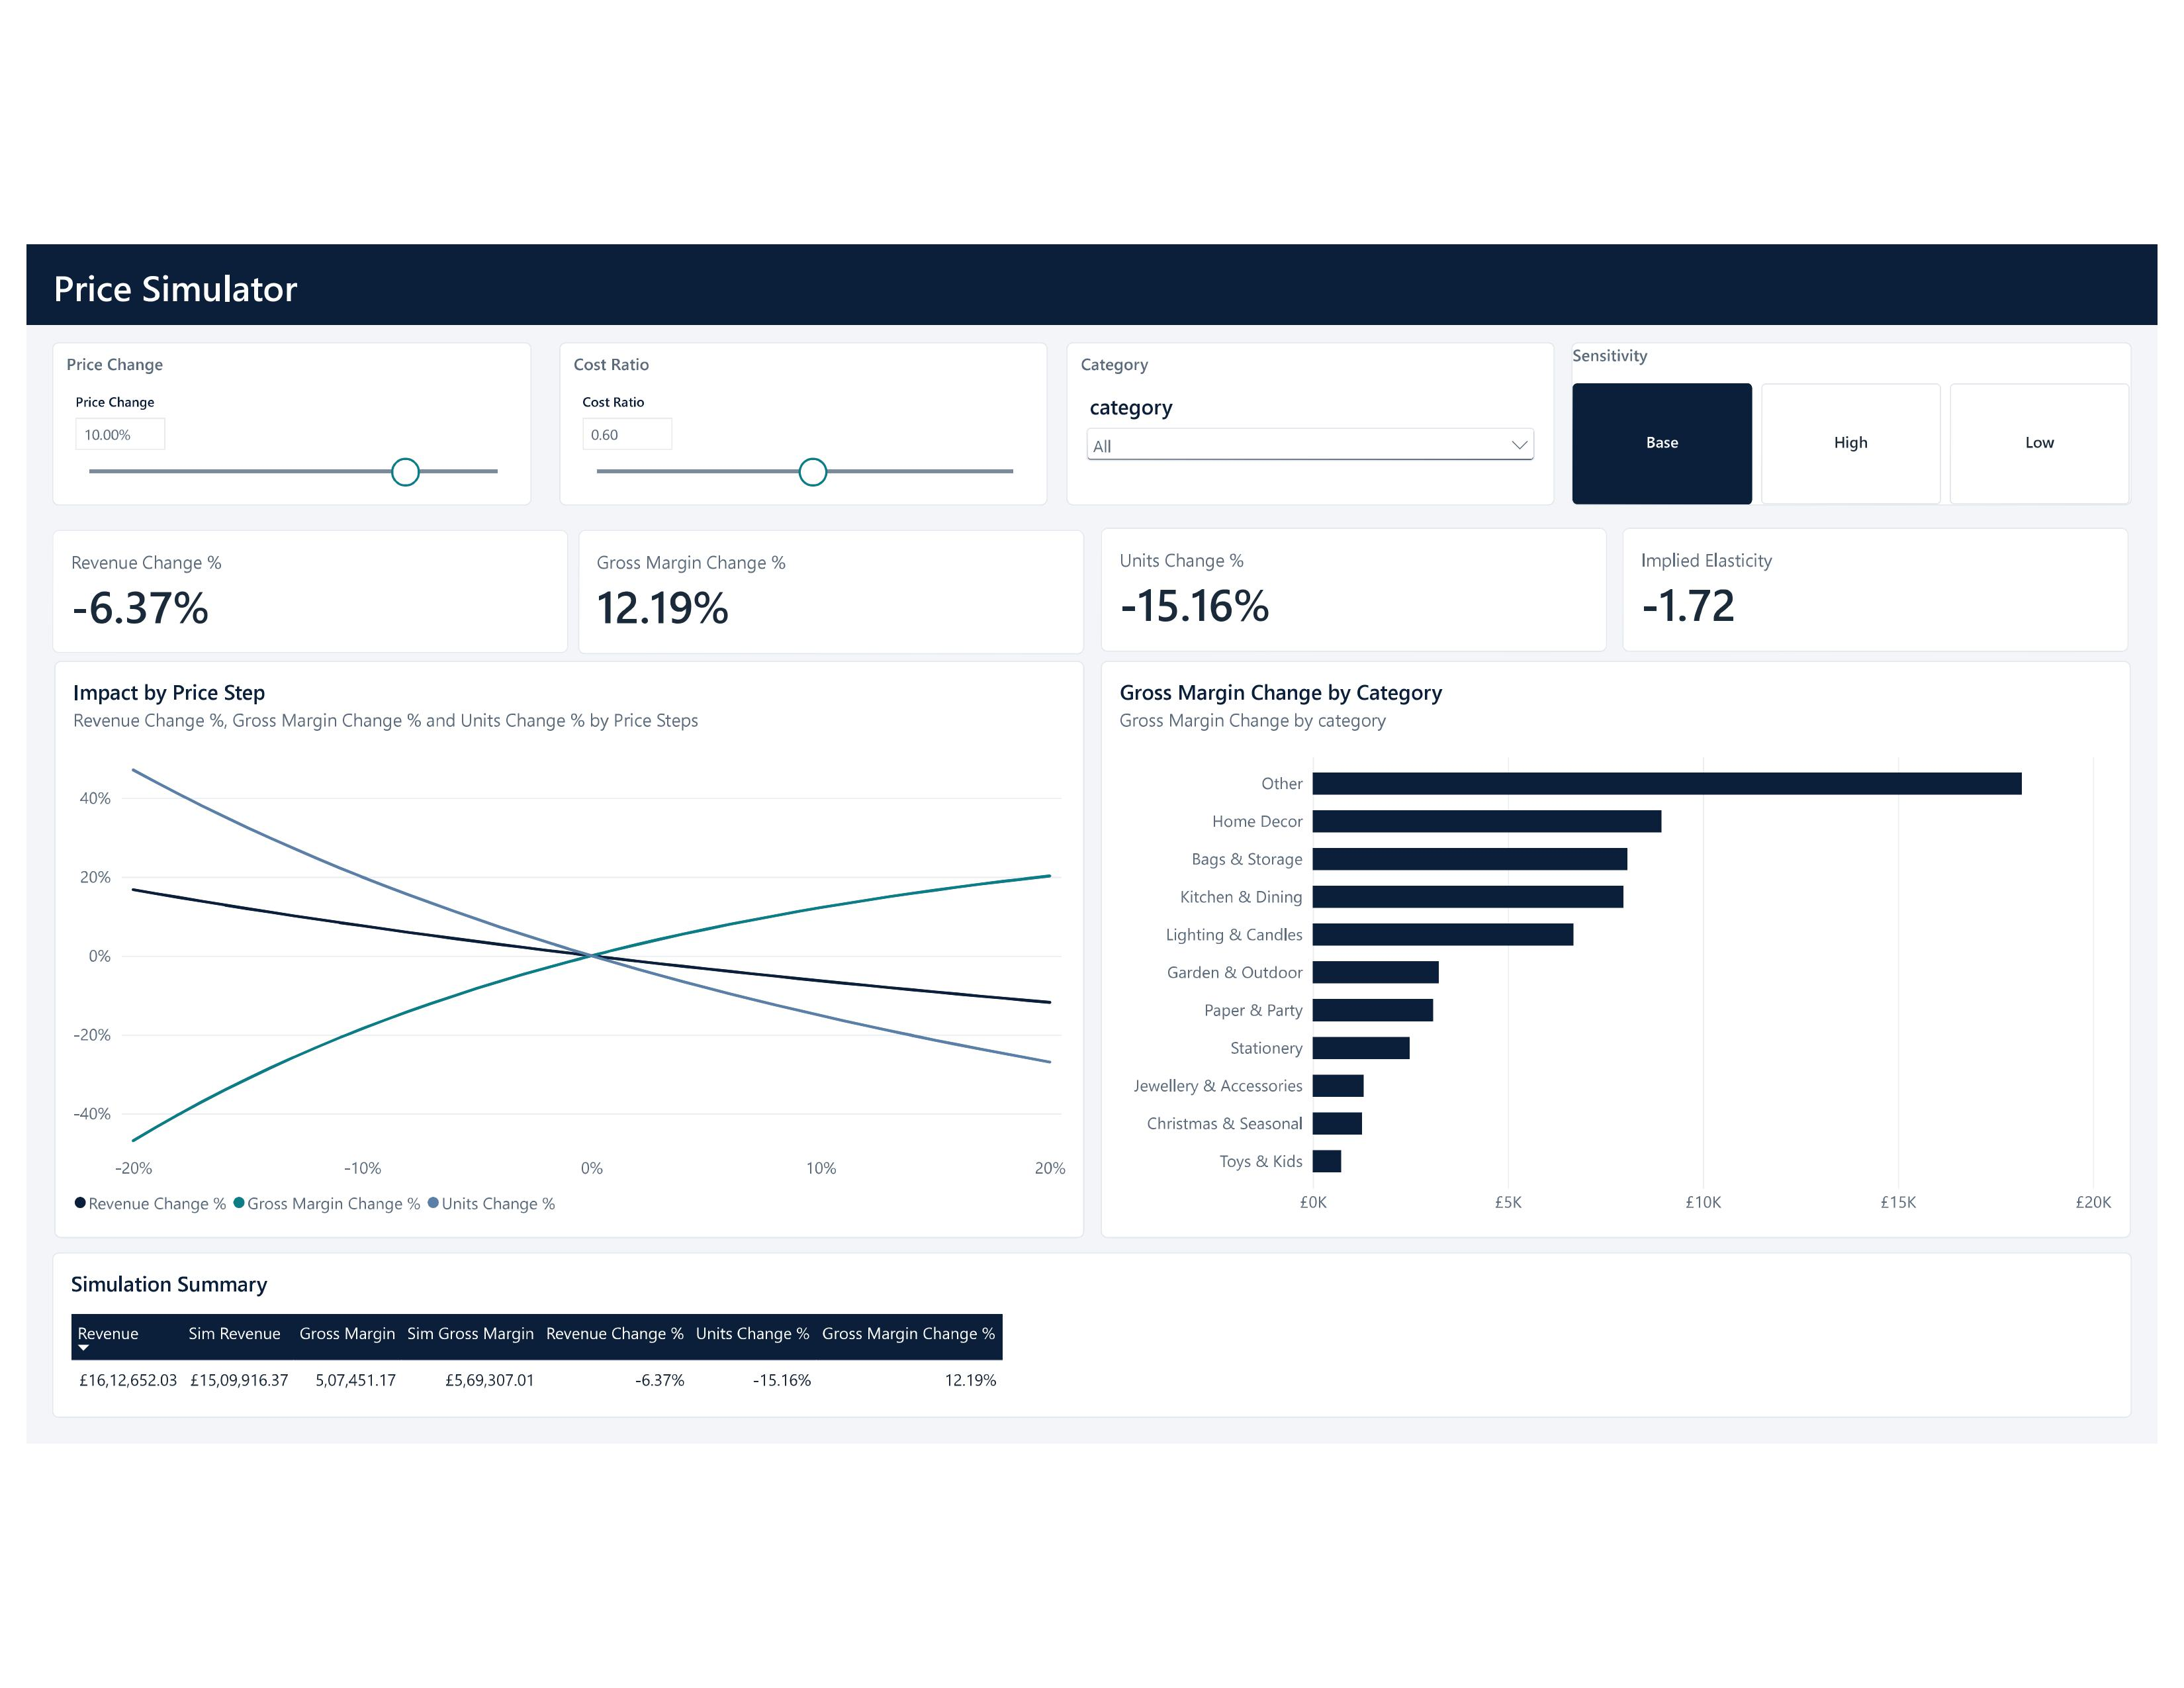

This screenshot's page, from the dashboard's own definition file:
{"tool":"powerbi","page":{"name":"Price Simulator","canvas":[1920,1080],"ordinal":1},"visuals":[{"type":"slicer","title":"Price Change","fields":{"Values":["Price Change.Price Change"]},"box":[23.3,88.3,431.7,146.7],"z":0},{"type":"textbox","box":[0,0,1920,72],"z":50},{"type":"slicer","title":"Cost Ratio","fields":{"Values":["Cost Ratio.Cost Ratio"]},"box":[480,88.3,440,146.7],"z":1000},{"type":"advancedSlicerVisual","title":"Sensitivity","fields":{"Values":["Sensitivity.Sensitivity"]},"box":[1391.7,88.3,505,146.7],"z":2000},{"type":"slicer","title":"Category","fields":{"Values":["panel.category"]},"box":[936.7,88.3,440,146.7],"z":2001},{"type":"cardVisual","fields":{"Data":["panel.Revenue Change %"]},"box":[23.3,256.7,465,111.7],"z":2002},{"type":"cardVisual","fields":{"Data":["panel.Gross Margin Change %"]},"box":[496.7,256.7,456,112],"z":2003},{"type":"cardVisual","fields":{"Data":["panel.Units Change %"]},"box":[968.3,255,456,112],"z":2004},{"type":"cardVisual","fields":{"Data":["panel.Implied Elasticity"]},"box":[1438.3,255,456,112],"z":2005},{"type":"lineChart","title":"Impact by Price Step","fields":{"Category":["Price Steps.Price Steps"],"Y":["panel.Revenue Change %","panel.Gross Margin Change %","panel.Units Change %"]},"box":[25,375,928,520],"z":2007},{"type":"clusteredBarChart","title":"Gross Margin Change by Category","fields":{"Category":["panel.category"],"Y":["panel.Gross Margin Change"]},"box":[968.3,375,928,520],"z":2008},{"type":"tableEx","title":"Simulation Summary","fields":{"Values":["panel.Revenue","panel.Sim Revenue","panel.Gross Margin","panel.Sim Gross Margin","panel.Revenue Change %","panel.Units Change %","panel.Gross Margin Change %"]},"box":[23.3,908.3,1873.3,148.3],"z":2009}]}

Visuals, with their boxes on the page's 1920x1080 design canvas (x1, y1, x2, y2). These are canvas units, not pixel positions in the 2184x1688 screenshot, which may show the page scaled, cropped or inside an application window:
"Price Change" slicer: (23, 88, 455, 235)
textbox: (0, 0, 1920, 72)
"Cost Ratio" slicer: (480, 88, 920, 235)
"Sensitivity" advancedSlicerVisual: (1392, 88, 1897, 235)
"Category" slicer: (937, 88, 1377, 235)
cardVisual - panel.Revenue Change %: (23, 257, 488, 368)
cardVisual - panel.Gross Margin Change %: (497, 257, 953, 369)
cardVisual - panel.Units Change %: (968, 255, 1424, 367)
cardVisual - panel.Implied Elasticity: (1438, 255, 1894, 367)
"Impact by Price Step" lineChart: (25, 375, 953, 895)
"Gross Margin Change by Category" clusteredBarChart: (968, 375, 1896, 895)
"Simulation Summary" tableEx: (23, 908, 1897, 1057)
